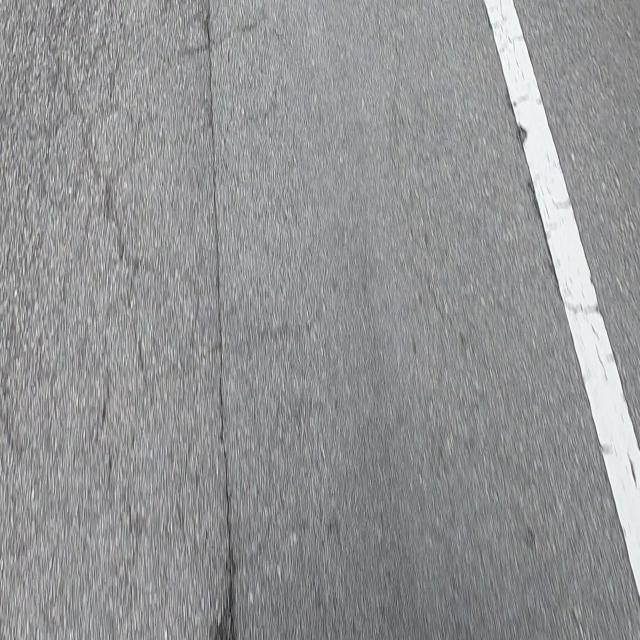Retak-Memanjang: (204, 4, 238, 640)
